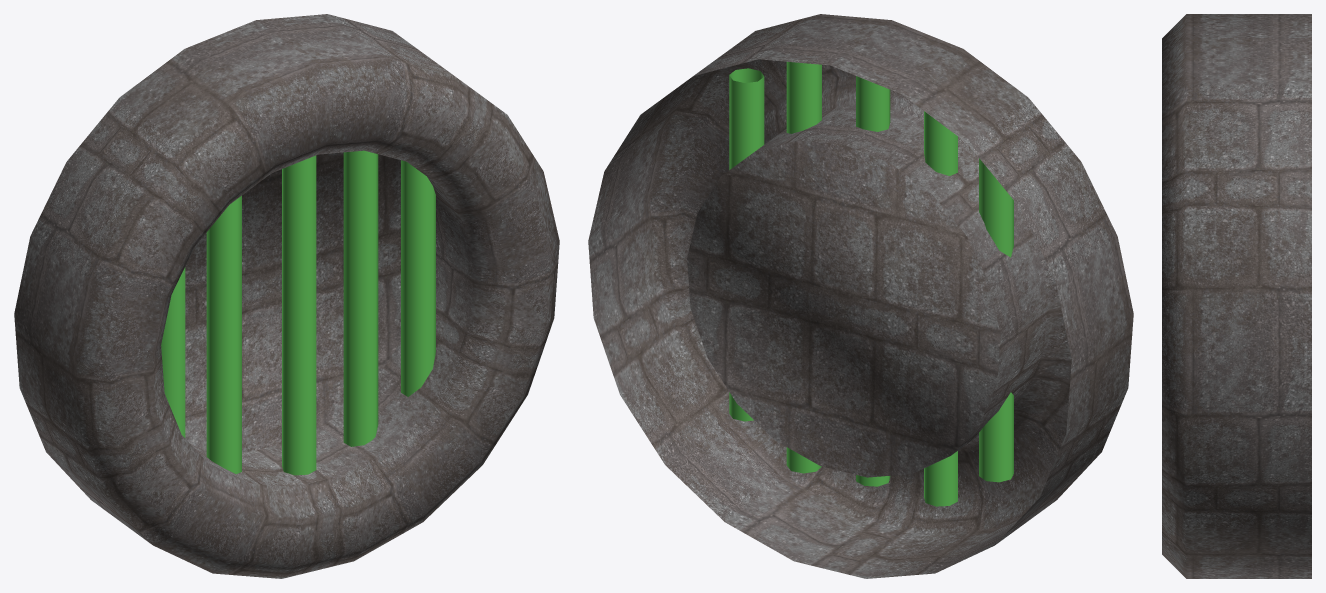
Rendered from Sewer Drain.fbx.
3 views of the same model, side by side, from view 1: azimuth 30°, elevation 25°; view 2: azimuth 150°, elevation 25°; view 3: azimuth 270°, elevation 25° (orthographic).
Visible parts, largest first — view 1: Cylinder; view 2: Cylinder; view 3: Cylinder.
Part boxes in pixels (x1,y1,x2,y2): Cylinder: (14,14,559,578); Cylinder: (588,14,1133,578); Cylinder: (1162,14,1311,578).
Bounding box in the file's own units: 312 × 311 × 82.47.
